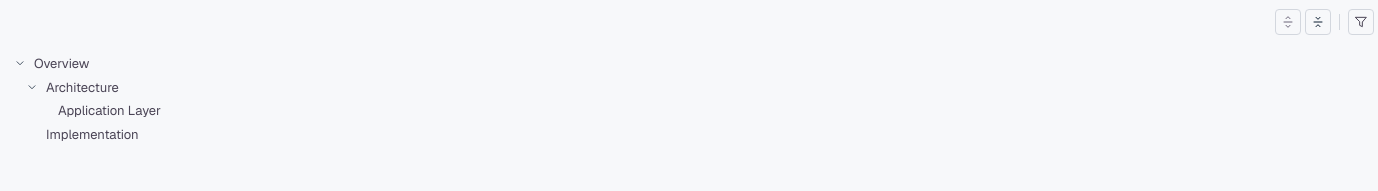
Test: 过滤命中（§10.7：按 title 子串并自动展开命中项） › Escape 先清空查询，再按一次才收起输入框
This screenshot has width=1378, height=191.
Later steps or results of the test are not shown.
Click the button named "Filter": coordinates (1361, 22) [1348,9,1374,35]
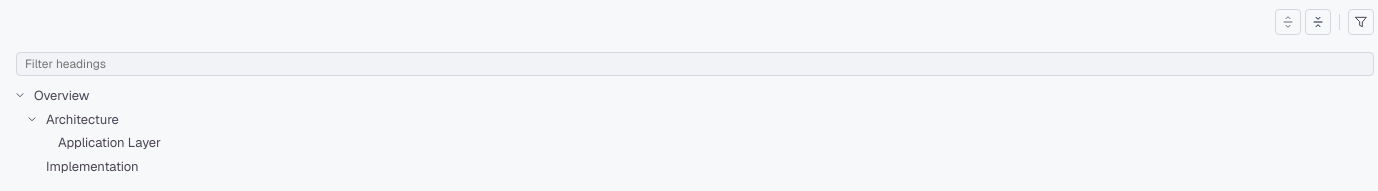
In the field with placeholder "Filter headings": coordinates (695, 64) [16,52,1374,76], type "arch"
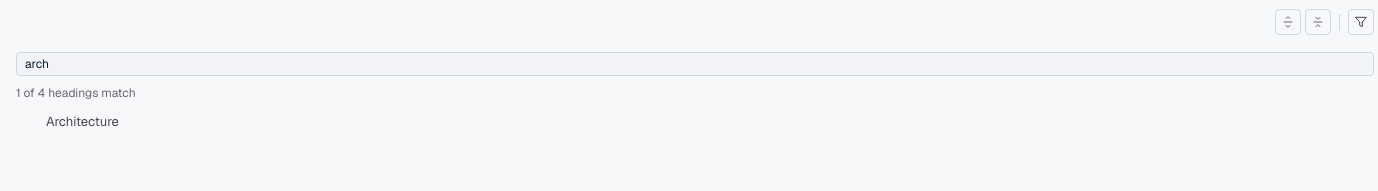
Press Escape in the field named "Filter headings", box [16,52,1374,76]
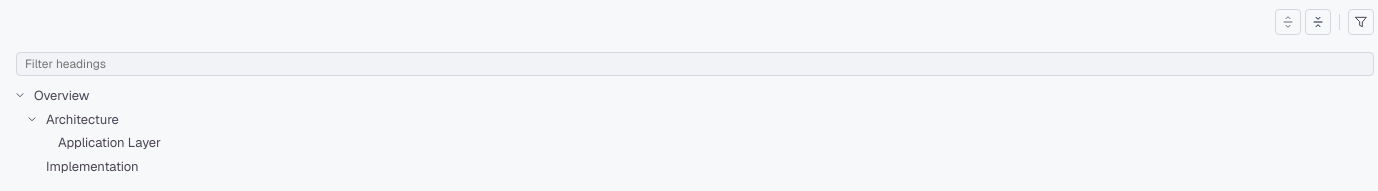
Check: the number of links is 4, box [34,87,89,104]; [46,110,119,128]; [58,134,161,151]; [46,158,139,174]
